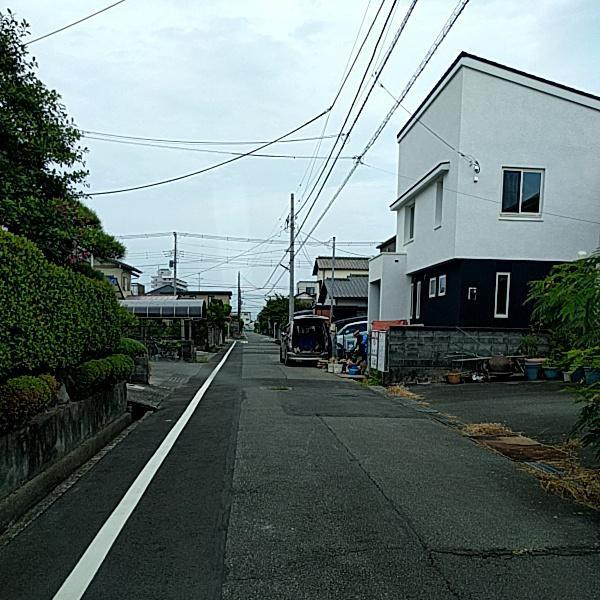D10: (220, 534, 424, 575), (426, 536, 593, 560)
